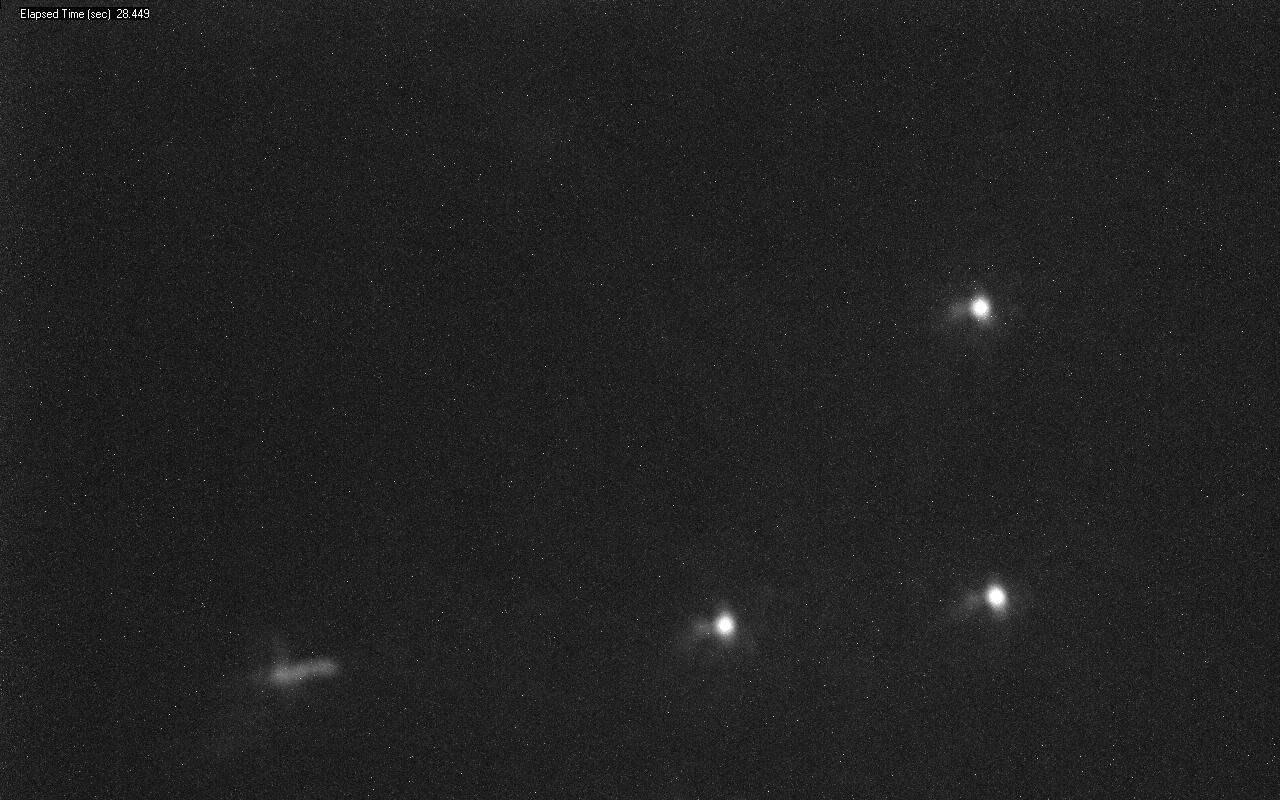Bead: (985, 582, 1007, 610), (715, 612, 735, 637), (969, 296, 990, 319)
